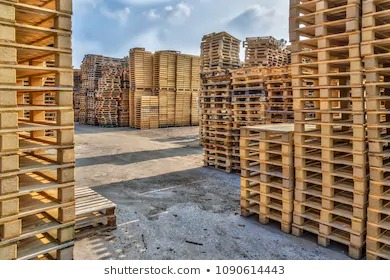pallet: (2, 150, 74, 224), (76, 186, 119, 231)
